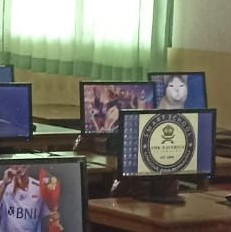monitor: (115, 108, 216, 180), (0, 154, 88, 229), (79, 81, 157, 136), (147, 71, 208, 110), (0, 82, 33, 141)
